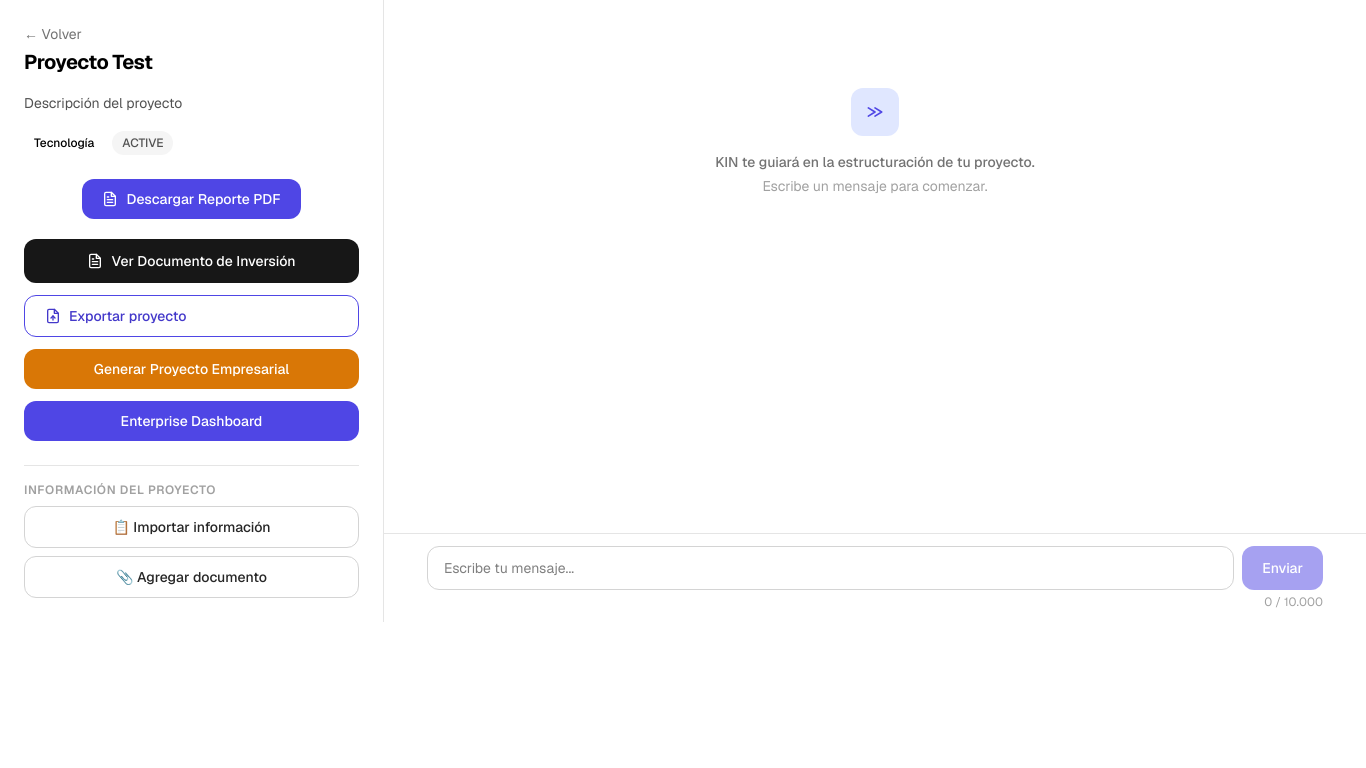
Test: ProjectDetailPage — protección del chat (10.000 caracteres) › error después de tokens conserva el contenido parcial (no muestra el mensaje fijo)
Expected: the heading "Proyecto Test" is shown, [24,48,152,76]
In the field with placeholder "Escribe tu mensaje...": x=831, y=568 [427,546,1234,590], type "hola KIN"
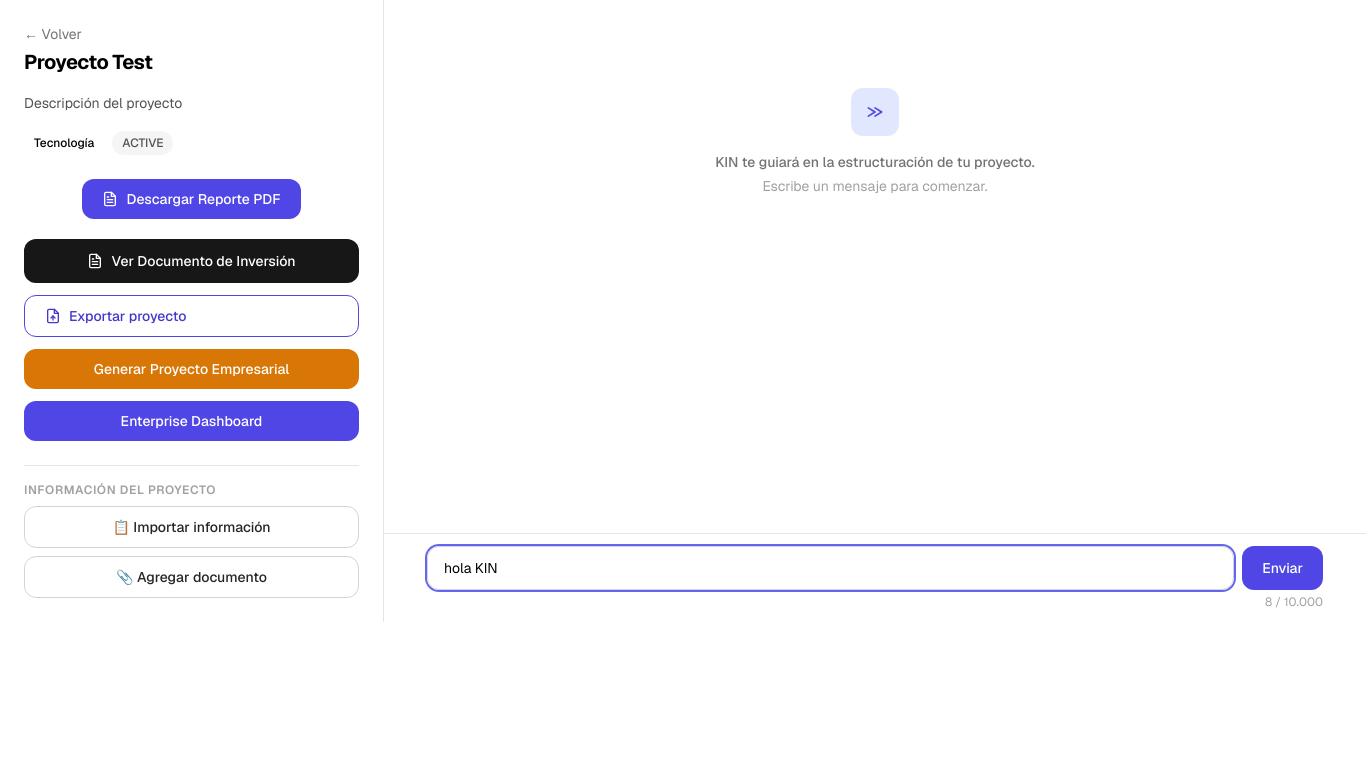
Click the button "Enviar": x=1283, y=568 [1242,546,1323,590]
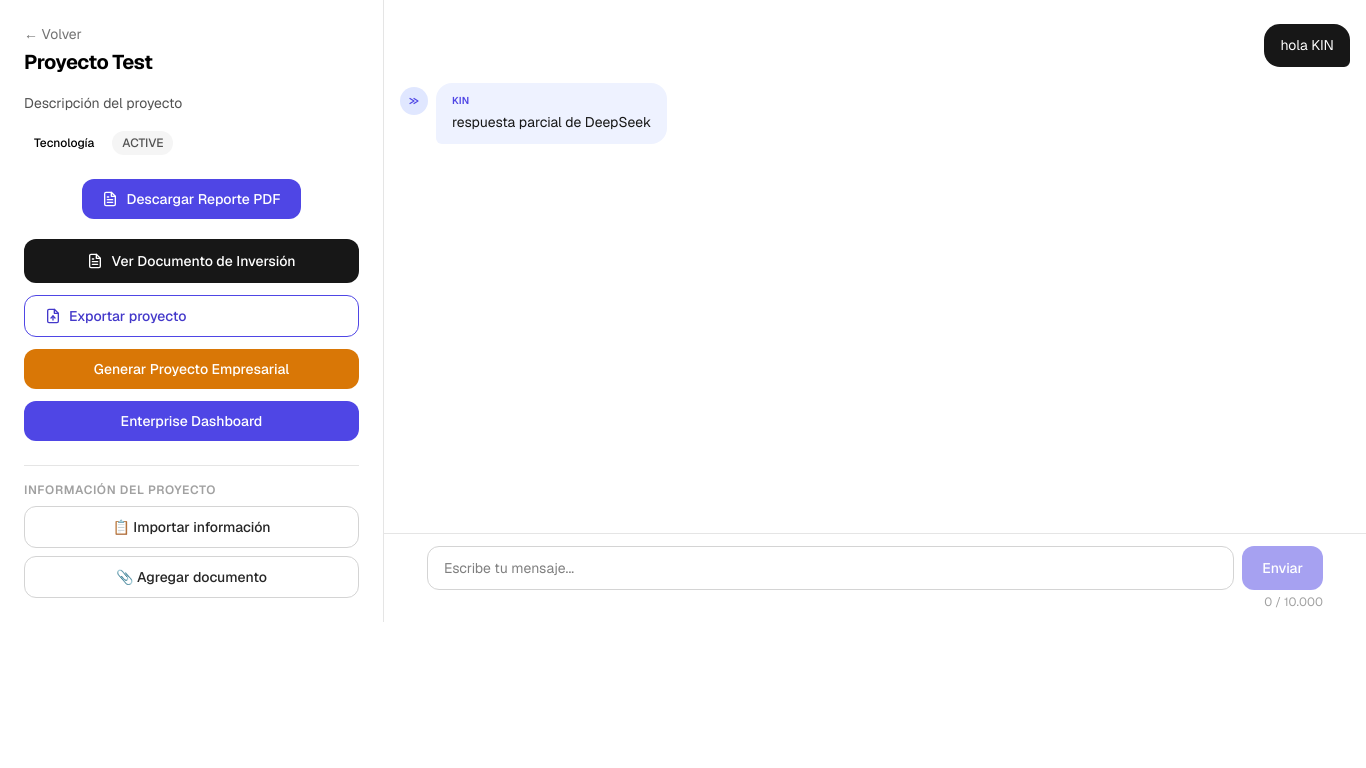
Now the text "respuesta parcial de DeepSeek" is shown, box [452,113,651,131]
